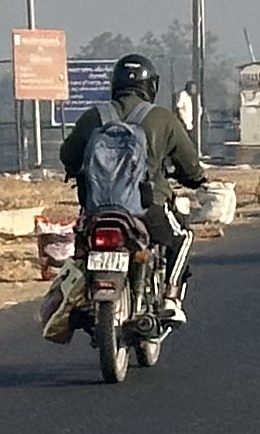BikeWithRider: (31, 50, 225, 395)
Helmet: (112, 50, 162, 100)
